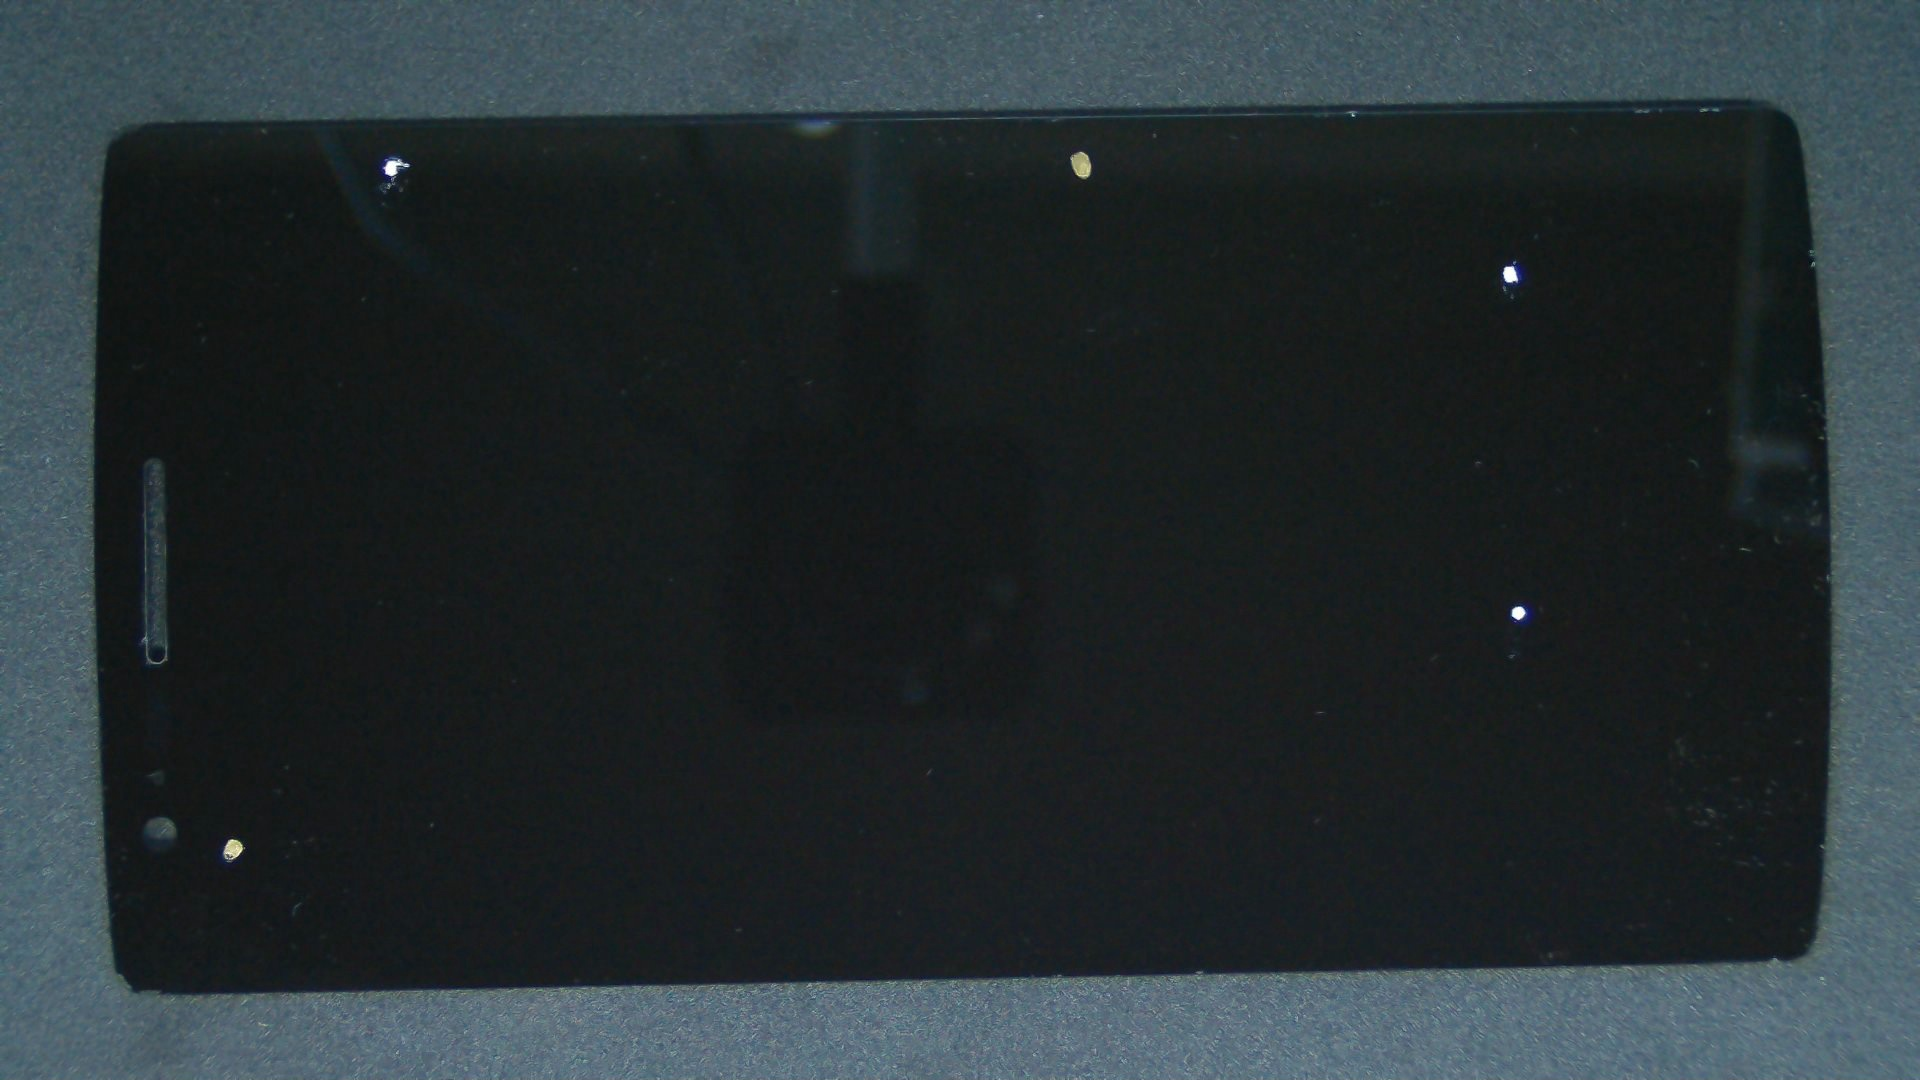oil: (761, 302, 1920, 906), (757, 131, 1920, 396), (539, 74, 1617, 224), (120, 418, 357, 1080), (194, 78, 580, 235)
